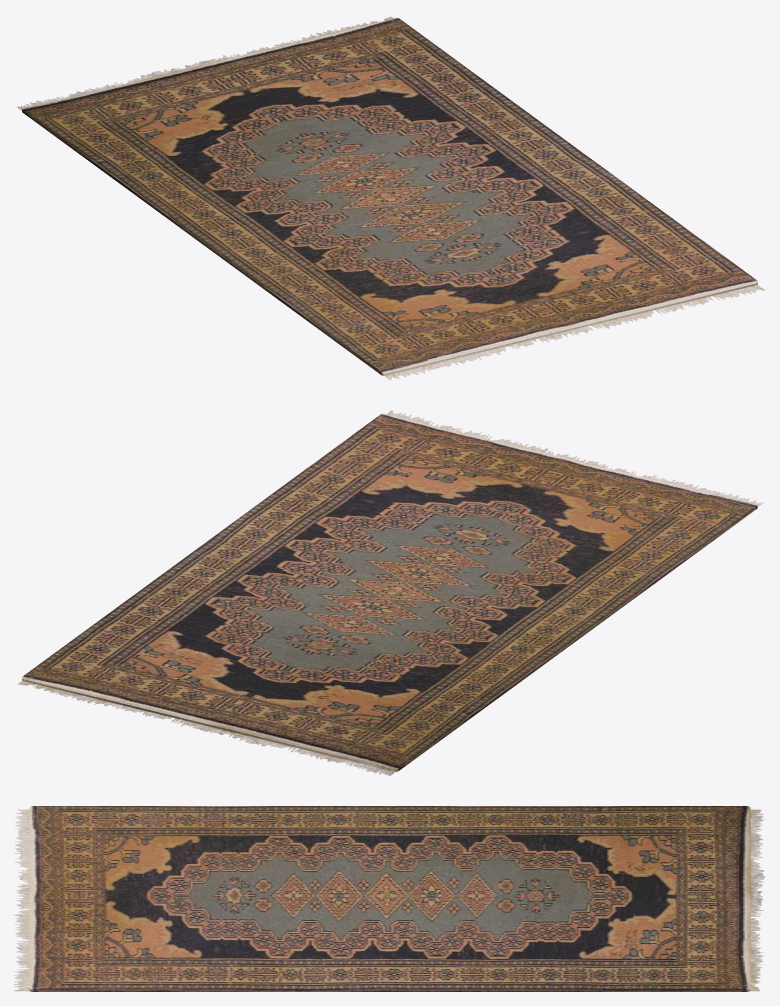
The model's file is persian-rug.gltf.
3 views of the same model, one above another, from view 1: azimuth 30°, elevation 25°; view 2: azimuth 150°, elevation 25°; view 3: azimuth 270°, elevation 25° (orthographic).
Visible parts, largest first — view 1: rug01_MDL_nar_blinn2_0; view 2: rug01_MDL_nar_blinn2_0; view 3: rug01_MDL_nar_blinn2_0.
Part boxes in pixels (x1,y1,x2,y2): rug01_MDL_nar_blinn2_0: [17, 16, 765, 380]; rug01_MDL_nar_blinn2_0: [18, 410, 763, 776]; rug01_MDL_nar_blinn2_0: [14, 806, 765, 991].
Size of the model in its own units: 3 by 0.0216 by 5.21.
Materials: 1 (1 with a texture image).
